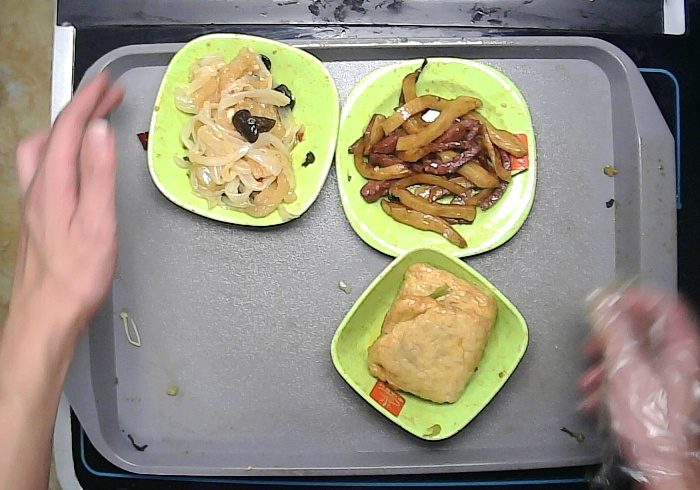SHKJ-Lv_Se_Cai_Die: (146, 31, 338, 226)
SHKJ-Lv_Se_Si_Fang_Cai_Die: (334, 54, 537, 261)
SHKJ-Lv_Se_Xiao_Fang_Die: (328, 246, 530, 443)
